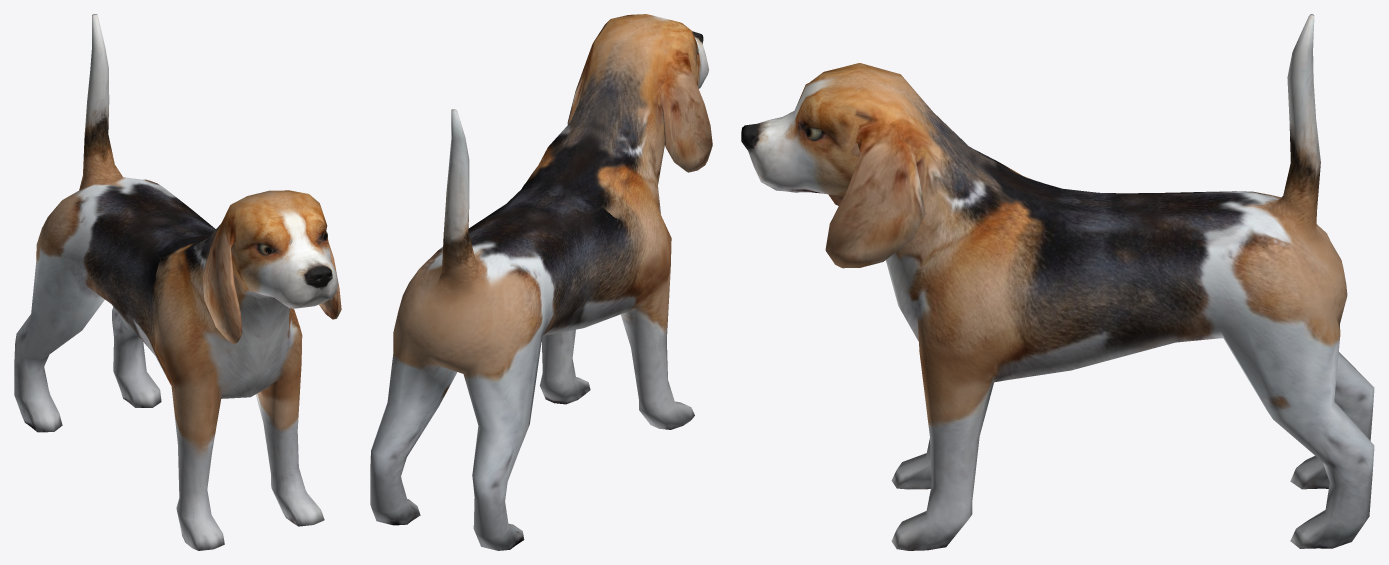
Rendered from Beagle.fbx.
3 views of the same model, side by side, from view 1: azimuth 30°, elevation 25°; view 2: azimuth 150°, elevation 25°; view 3: azimuth 270°, elevation 25° (orthographic). The views are drawn at different scales.
Visible parts, largest first — view 1: Beagle; view 2: Beagle; view 3: Beagle.
Part boxes in pixels (bbox=[...]): Beagle: bbox=[14, 14, 341, 550]; Beagle: bbox=[370, 14, 712, 550]; Beagle: bbox=[741, 14, 1374, 550].
Bounding box in the file's own units: 35.99 × 106 × 122.
